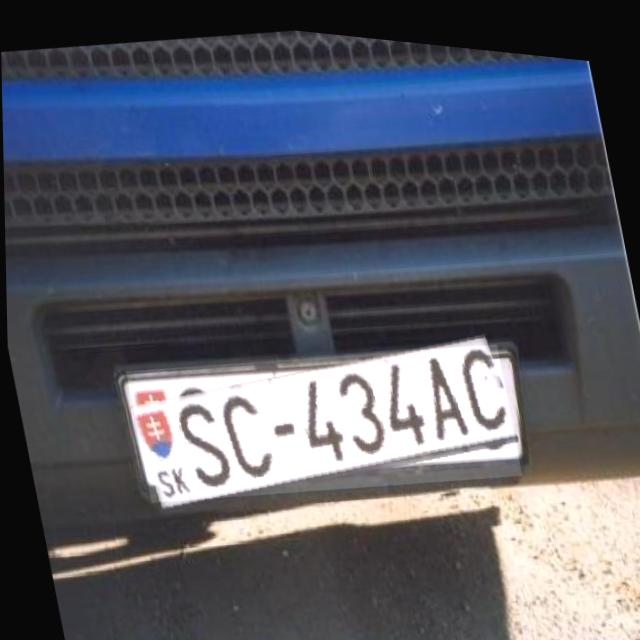LicensePlate: (123, 303, 521, 530)
